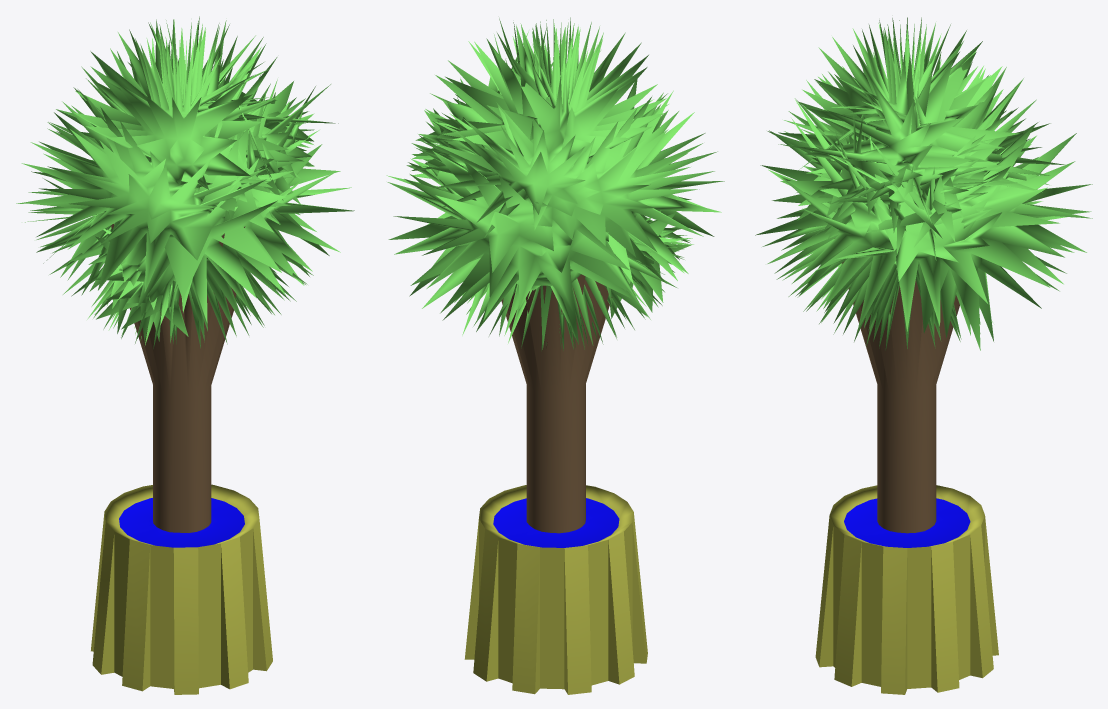
Rendered from PottedTree2.fbx.
3 renders of one model, left to right at view 1: azimuth 30°, elevation 25°; view 2: azimuth 150°, elevation 25°; view 3: azimuth 270°, elevation 25°, orthographic.
Visible parts, largest first — view 1: pCylinder2; view 2: pCylinder2; view 3: pCylinder2.
Part boxes in pixels (bbox=[...]): pCylinder2: bbox=[16, 16, 354, 694]; pCylinder2: bbox=[386, 17, 724, 694]; pCylinder2: bbox=[755, 17, 1092, 694].
Bounding box in the file's own units: 4.48 × 8.92 × 4.36.
